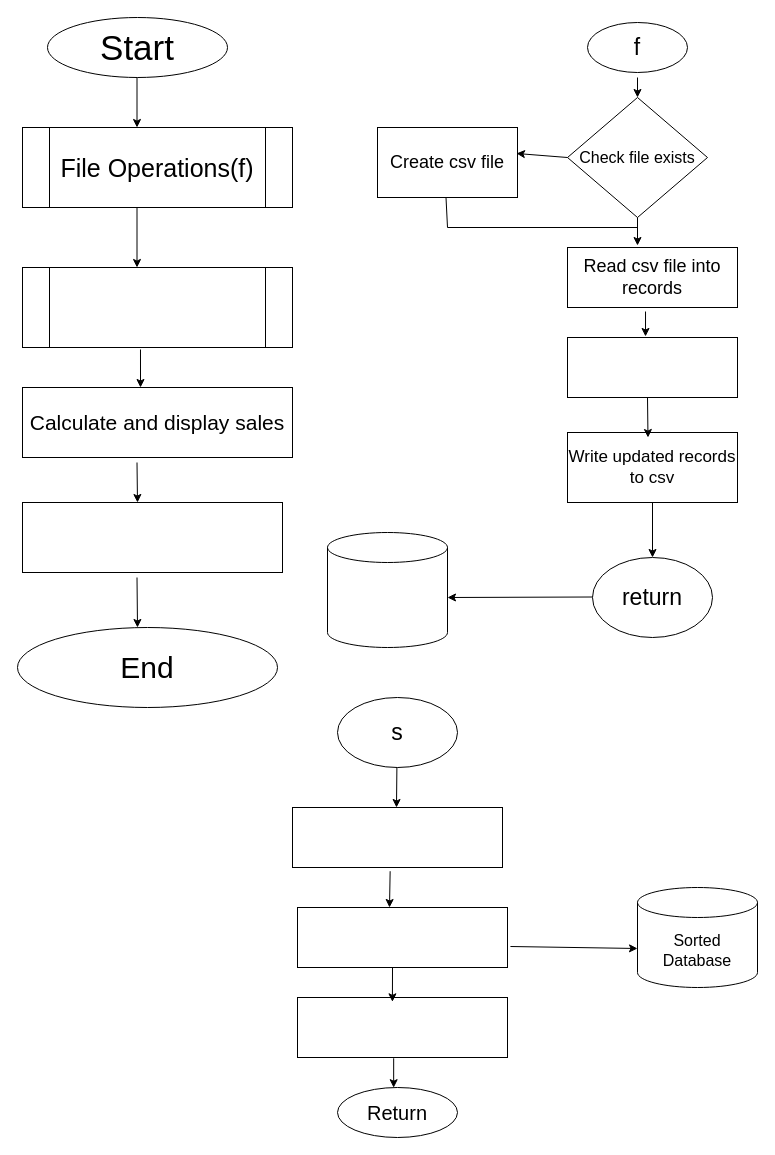
Image size: 775x1155. Some labels were removed from this diagram. The box of each missing label's shape, as (x1, y1, x2, y2) in pixels:
Convert temp to text file(report): (296, 996, 508, 1058)
Display last compilation details: (22, 502, 282, 572)
Input Database: (326, 532, 448, 648)
Perform CRUD operations: (566, 336, 738, 398)
Sorting Records: (292, 806, 502, 868)
Sorting(s): (22, 266, 292, 348)
Write Sorted records to temp csv: (296, 906, 508, 968)
